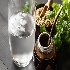guampa: (36, 11, 58, 62)
